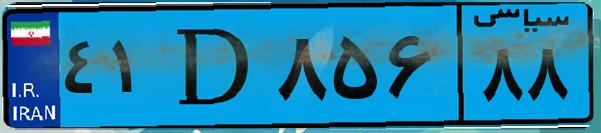1: (110, 28, 158, 98)
4: (57, 26, 110, 100)
5: (330, 28, 385, 110)
6: (385, 28, 445, 110)
8: (270, 28, 330, 110), (475, 38, 525, 113), (525, 38, 570, 115)
D: (158, 12, 270, 120)
